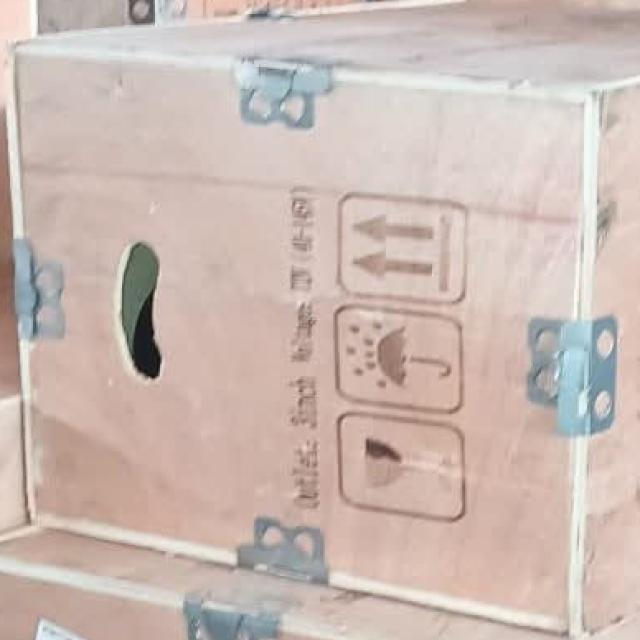fragile_label: (319, 401, 482, 538)
keep_dry_label: (320, 298, 481, 422)
this_side_up_label: (329, 178, 486, 303)
wooden_box: (0, 11, 640, 640)
